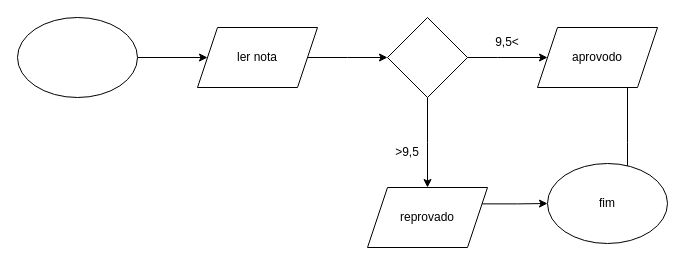
Some shapes in this 685 by 265 pixel diagram are drawn without their labels. The centre of each missing label's shape, as x and y in pixels:
"> ou < que 9,5" belongs at point 427,57.
"inicio" belongs at point 77,57.
